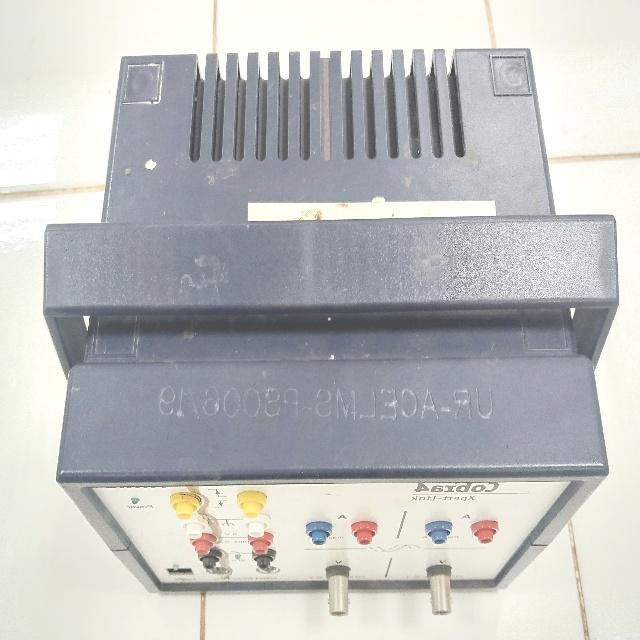Cobra 4 Xpert link Power Supply: (36, 23, 630, 626)
